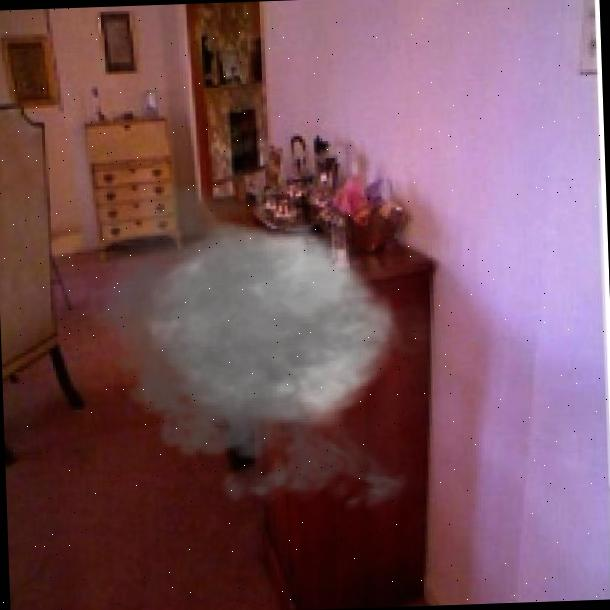smoke: (69, 162, 472, 530)
